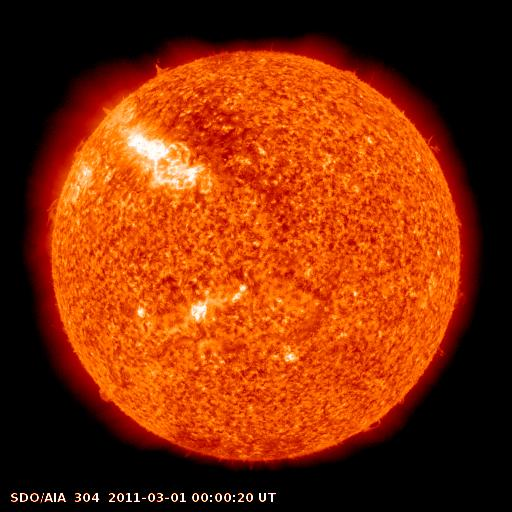prominence: (139, 51, 185, 83), (87, 378, 124, 413), (40, 192, 68, 238), (88, 96, 124, 129), (356, 408, 390, 442), (70, 133, 102, 169)
